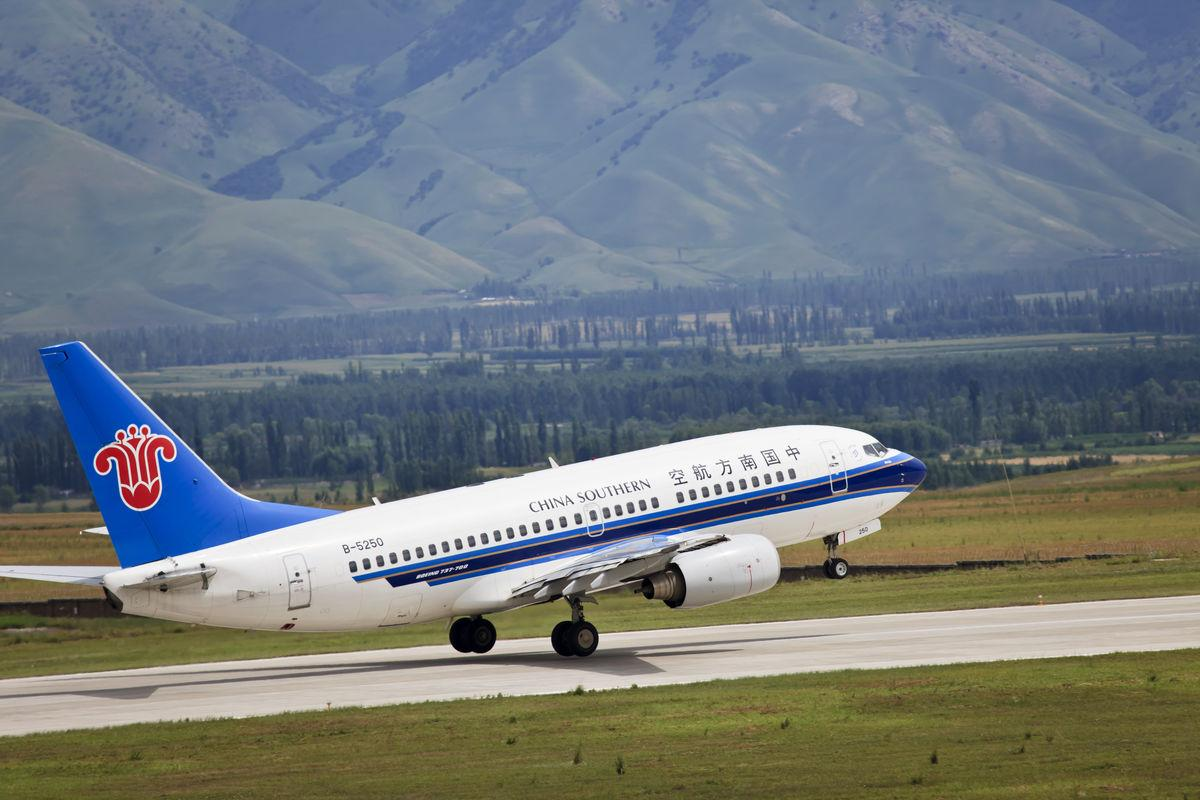airplane: (38, 305, 903, 666)
